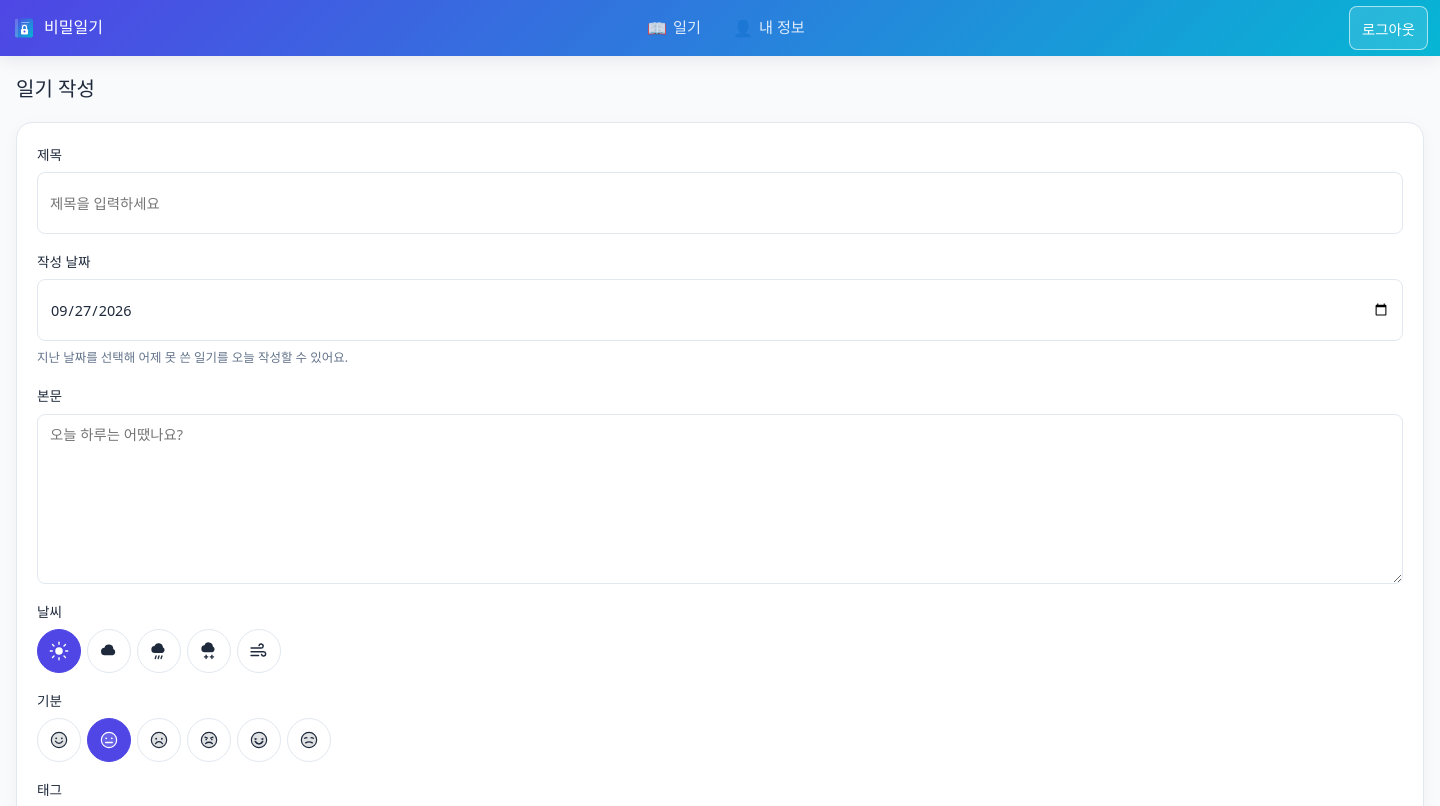
it: DiaryFormPage › 생성 요청이 400으로 실패하면 서버 오류 메시지를 화면에 표시한다
Type "새 일기 제목" into the field labelled "제목".
click(720, 203); type("새 일기 제목")  # box [37,172,1403,234]
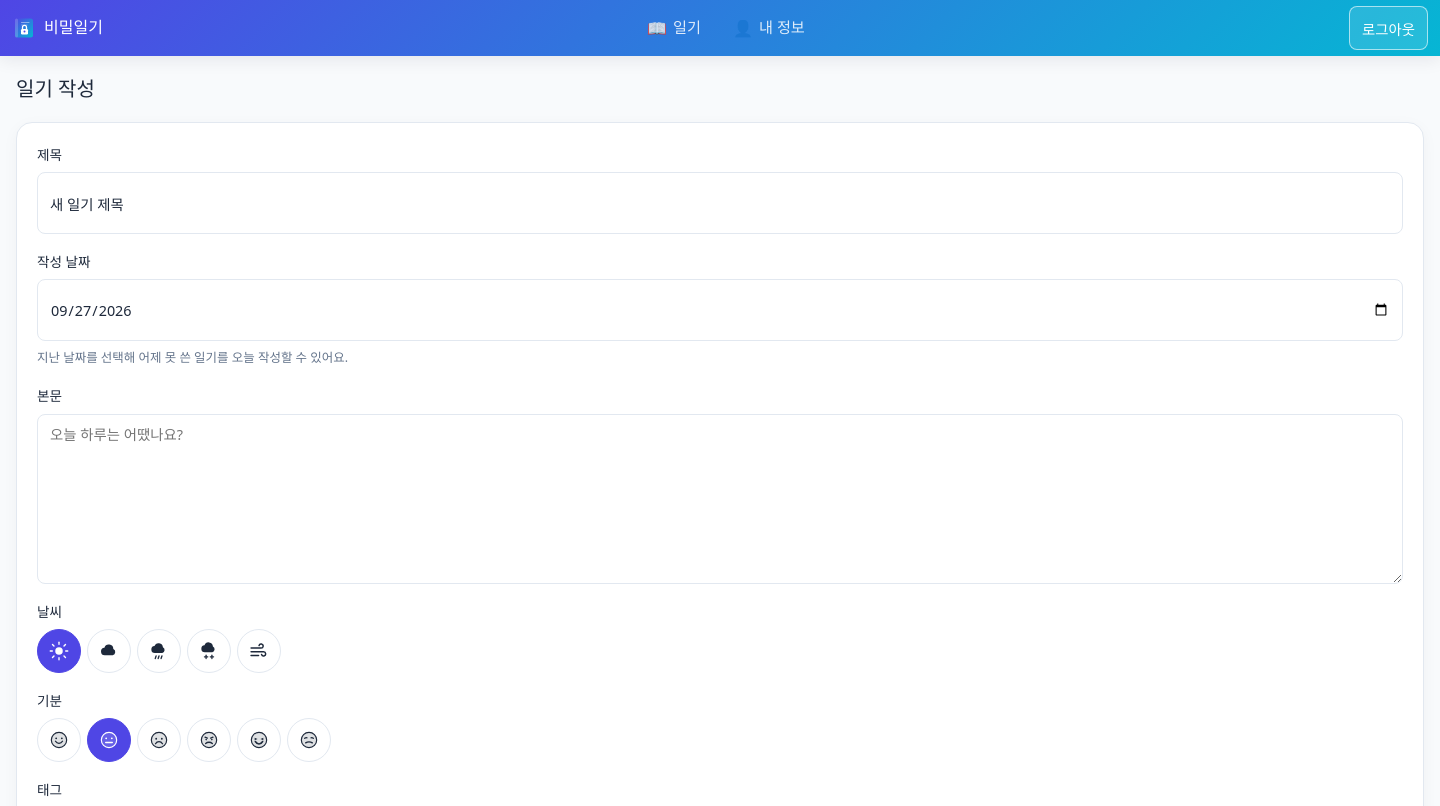
Type "새 일기 본문입니다." into the text box labelled "본문".
click(720, 498); type("새 일기 본문입니다.")  # box [37,414,1403,584]
(page scrolled)
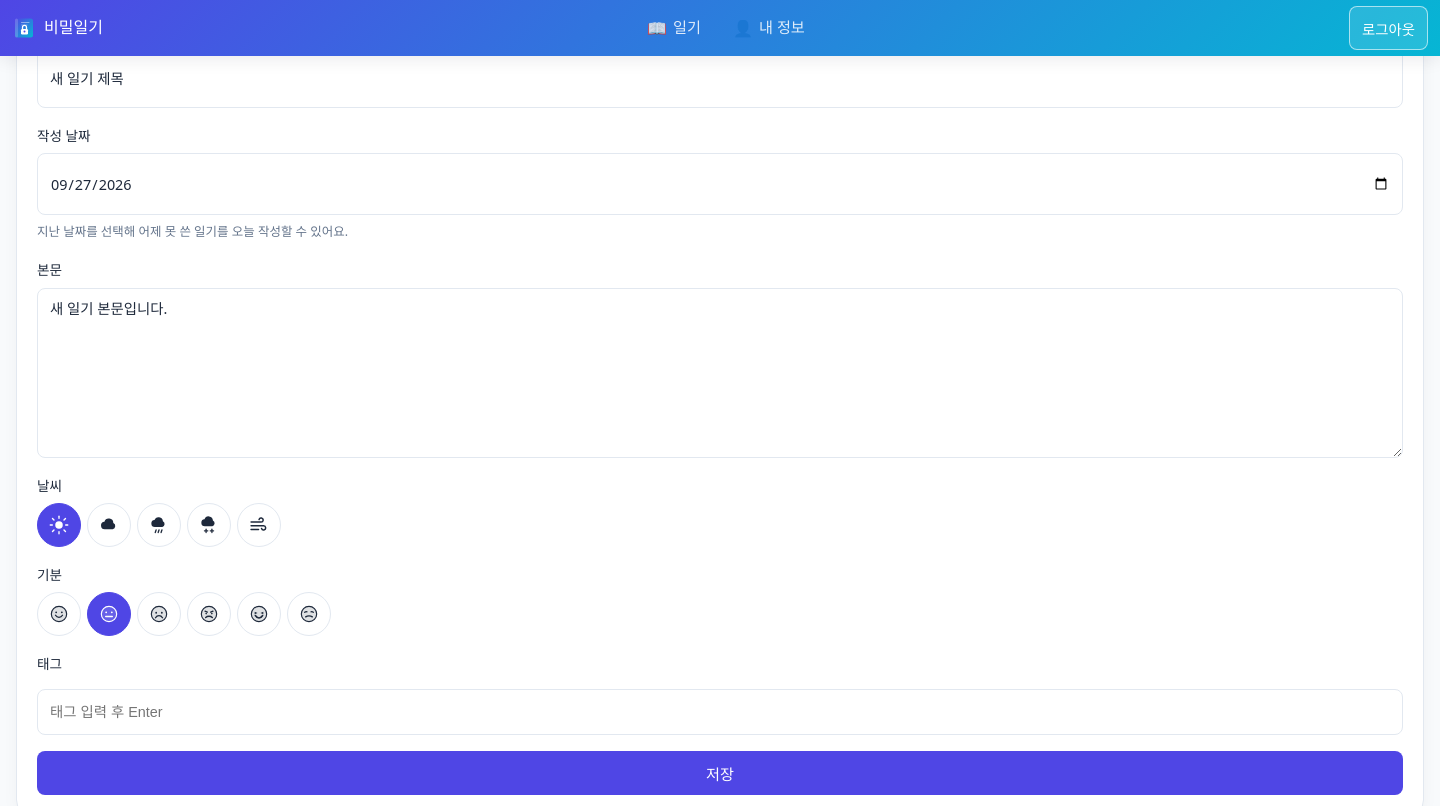
Submit the form
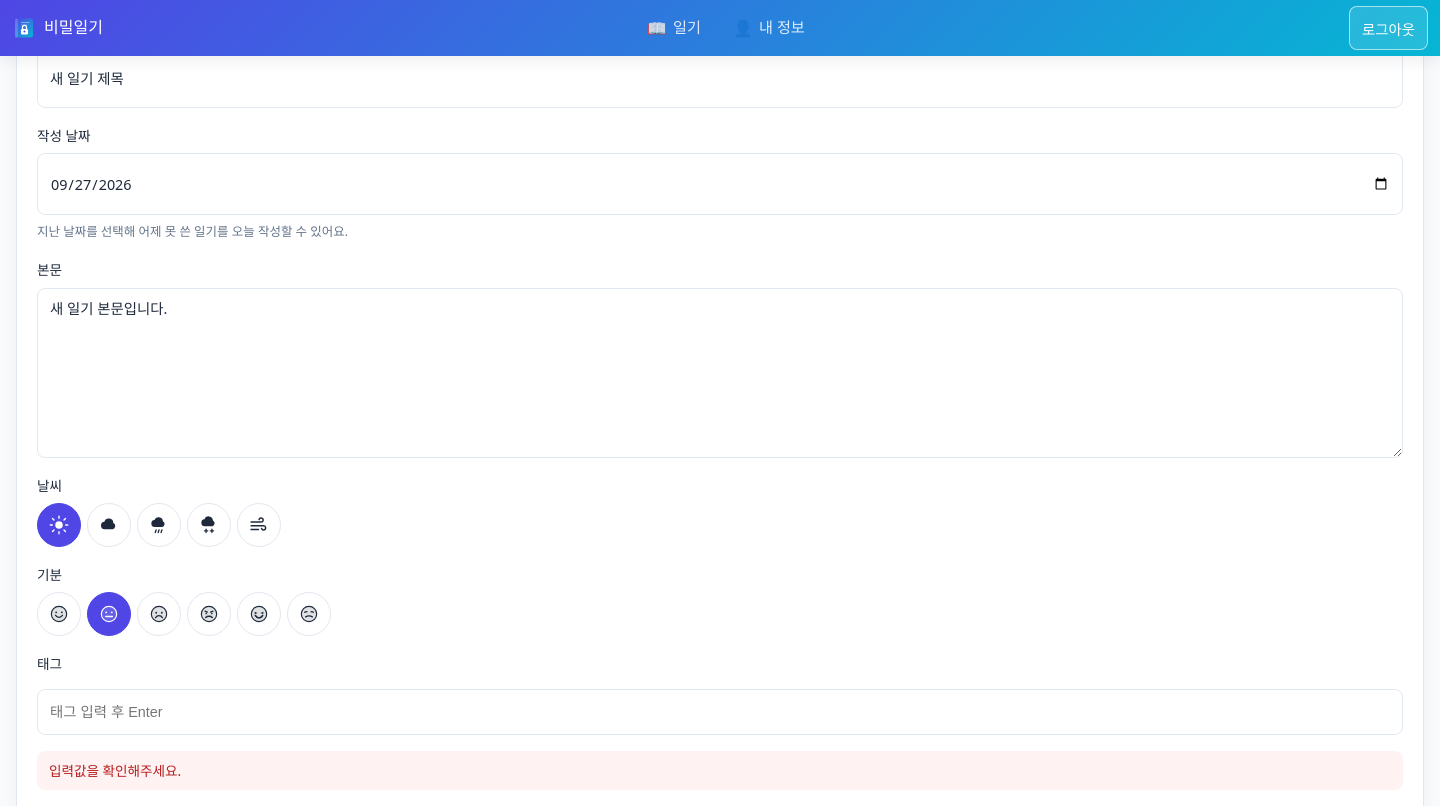
Now the text "입력값을 확인해주세요." is shown, box [37,751,1403,790]
